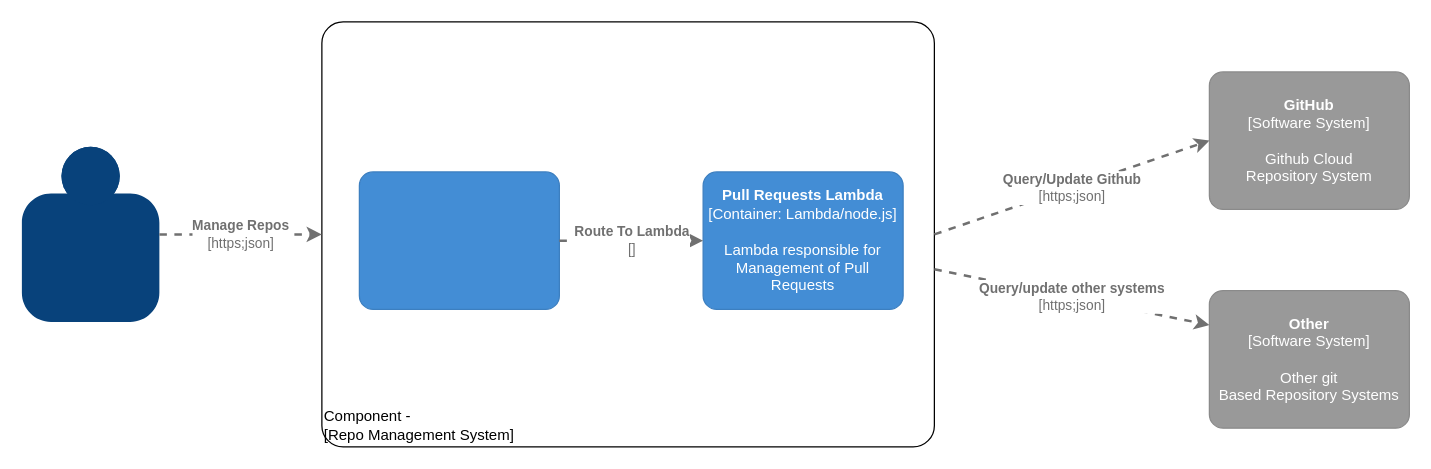
This 1431x469 diagram has some shape labels left out. The box of each missing label's shape, as (x1, y1, x2, y2) in pixels:
API Gateway [Container: https;json] Defined API Endpoints: (358, 171, 559, 309)
name [Person] Description: (21, 146, 159, 321)
